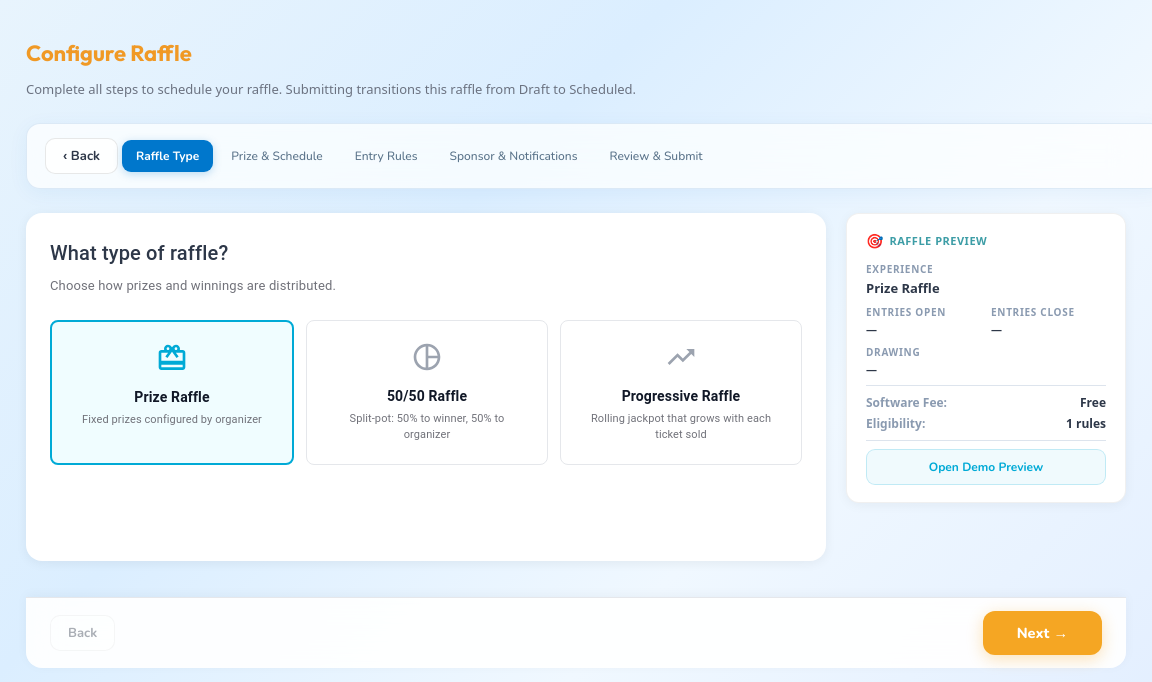
Test: RaffleConfig - 50/50 split configuration › shows the split UI (not the prize form) for 50/50 raffles
Click the text "50/50 Raffle" at (427, 392), box [306,320,548,465]
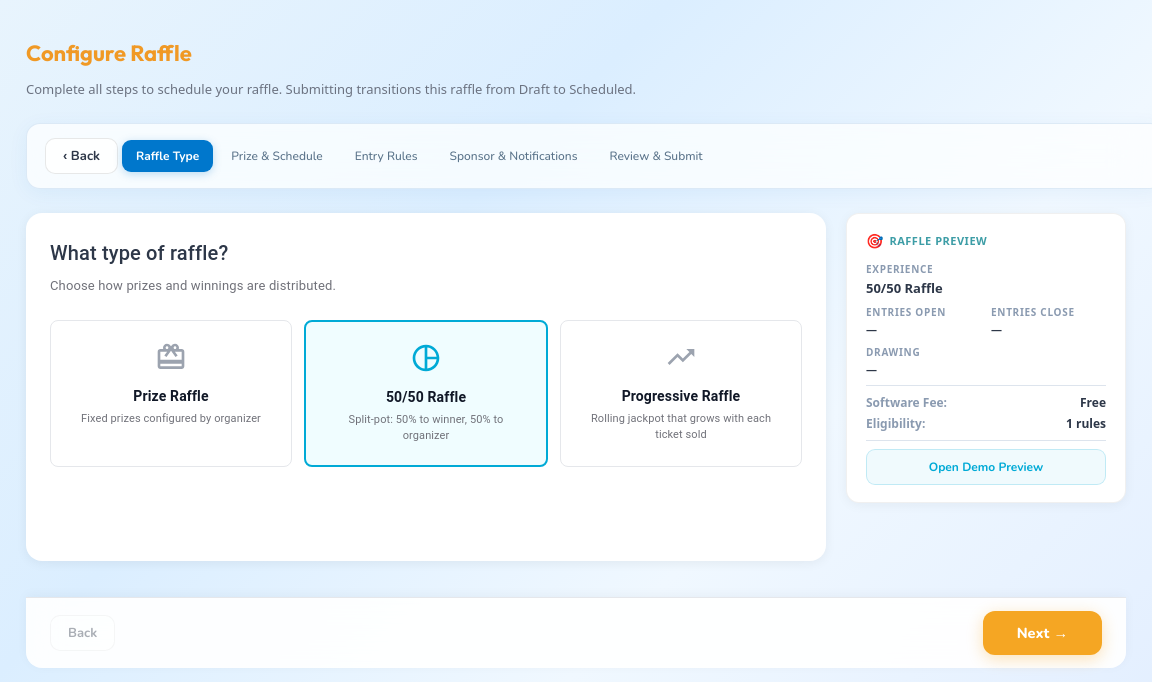
Click the button "Next →" at (1042, 633), box [983,611,1102,655]
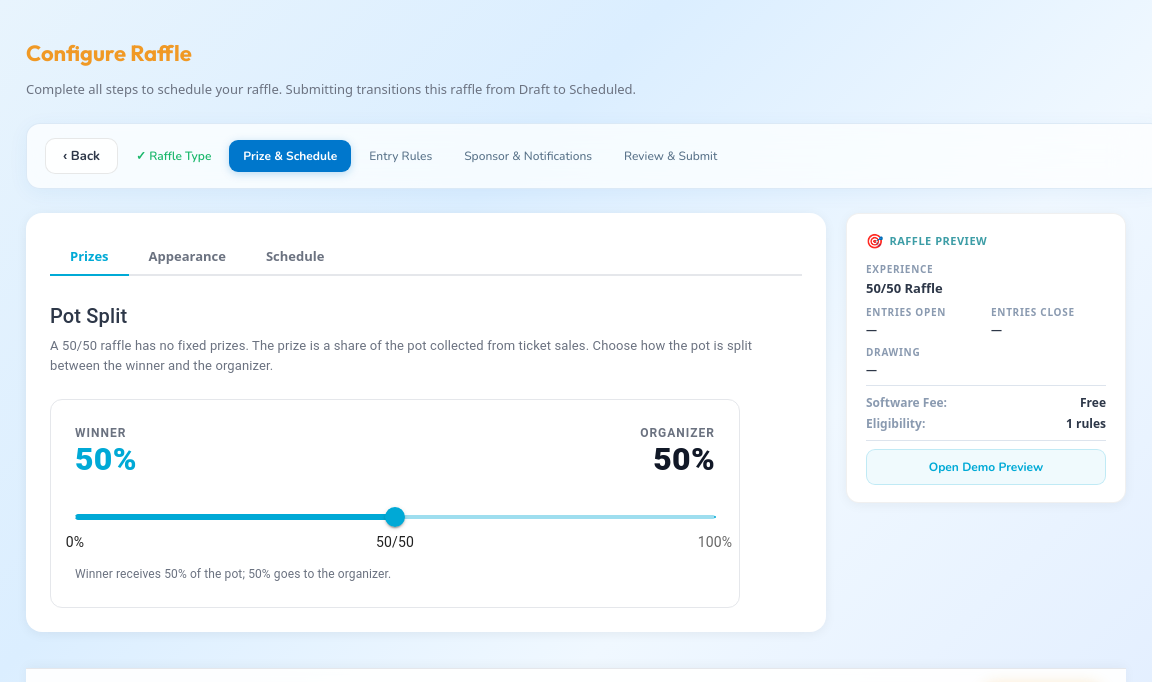
Now the heading "Pot Split" is shown, box [50,304,127,328]
Now the slider named "Winner share of the pot" is shown, box [385,507,405,527]
